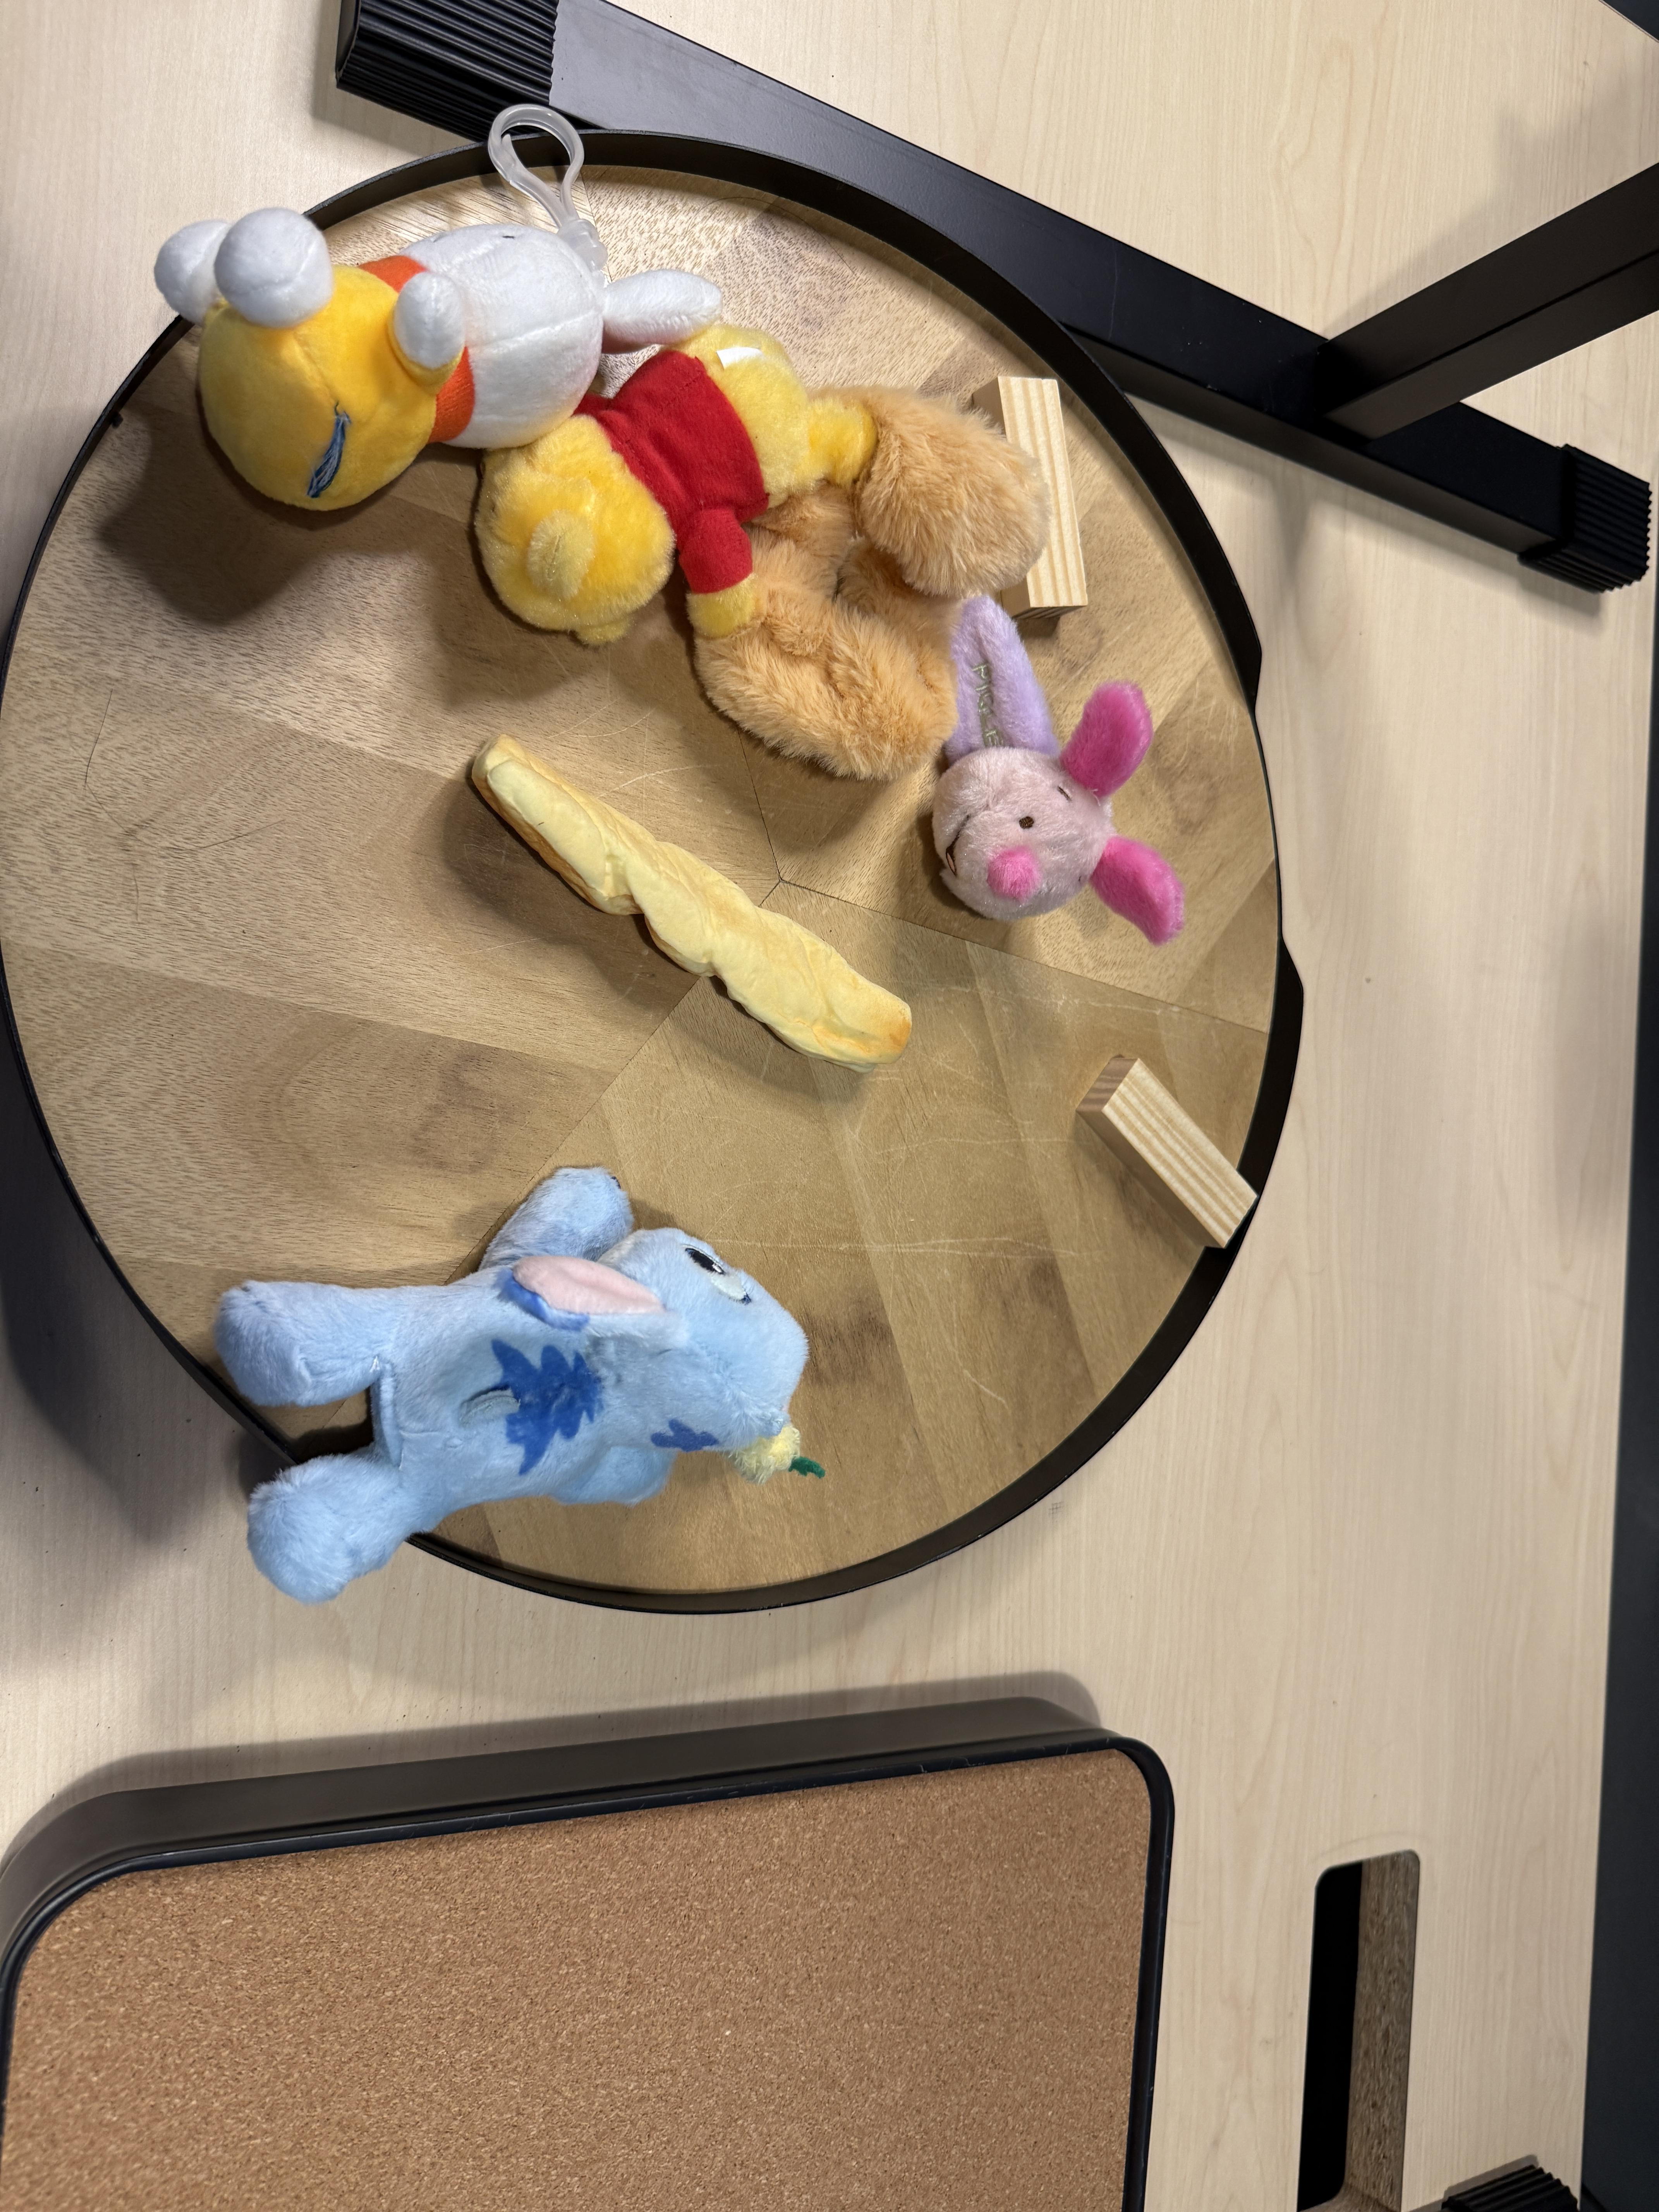block: (232, 1165, 817, 1620), (1080, 1054, 1263, 1252), (999, 371, 1094, 610)
bread: (469, 740, 922, 1083)
doll: (472, 322, 1051, 777), (159, 206, 714, 524), (925, 589, 1188, 951)
